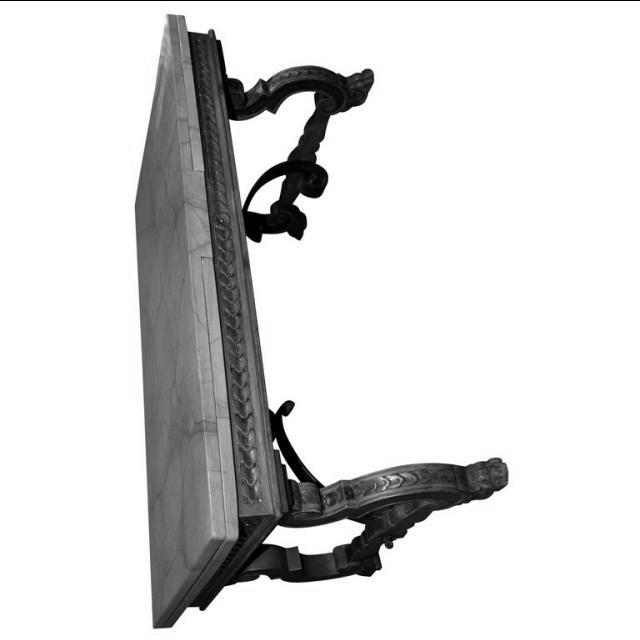table: (132, 12, 510, 628)
